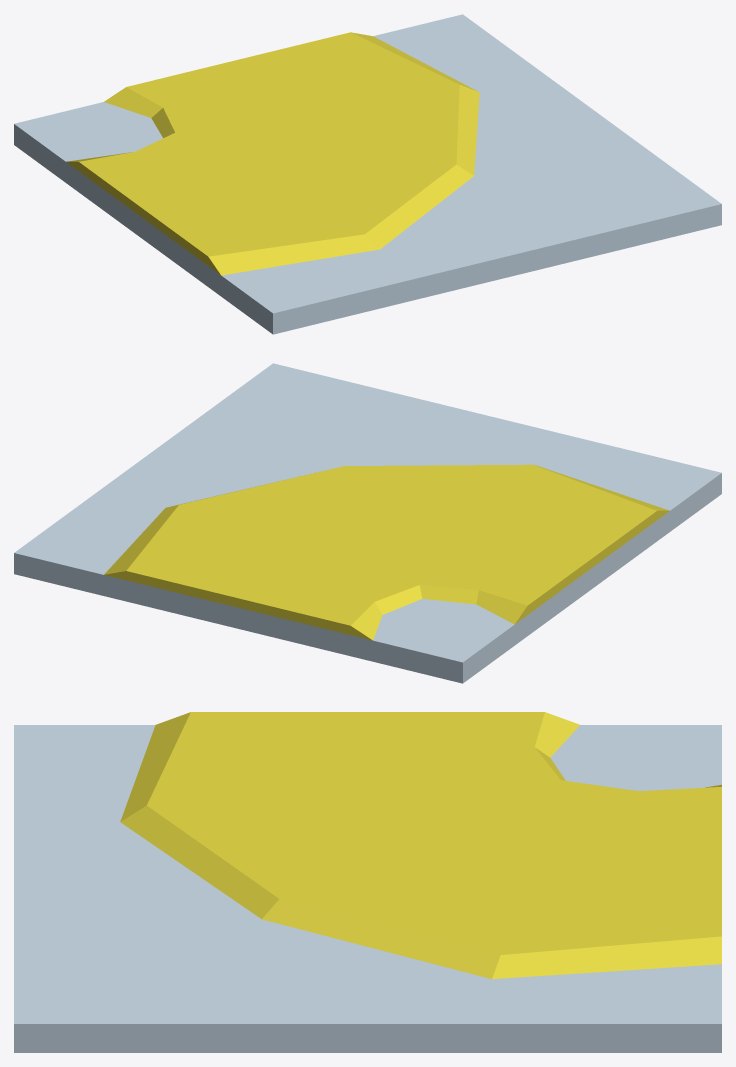
Rendered from world23.fbx.
3 renders of one model, top to bottom at view 1: azimuth 30°, elevation 25°; view 2: azimuth 150°, elevation 25°; view 3: azimuth 270°, elevation 25°, orthographic. The views are drawn at different scales.
Visible parts, largest first — view 1: Cube.131, Cube.130; view 2: Cube.131, Cube.130; view 3: Cube.130, Cube.131.
Part boxes in pixels (x1,y1,x2,y2): Cube.131: (14, 14, 721, 334); Cube.130: (66, 32, 479, 275); Cube.131: (14, 363, 721, 683); Cube.130: (104, 464, 669, 640); Cube.130: (120, 712, 721, 978); Cube.131: (14, 725, 721, 1052).
Size of the model in its own units: 400 by 26.04 by 400.
